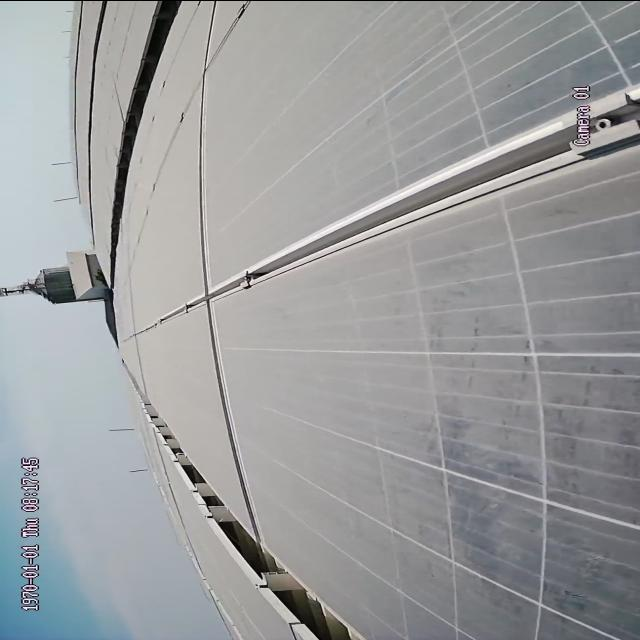interior panel: (161, 101, 626, 327), (204, 311, 269, 509), (192, 9, 215, 289)
outher panel: (132, 387, 373, 639), (105, 6, 183, 273)
